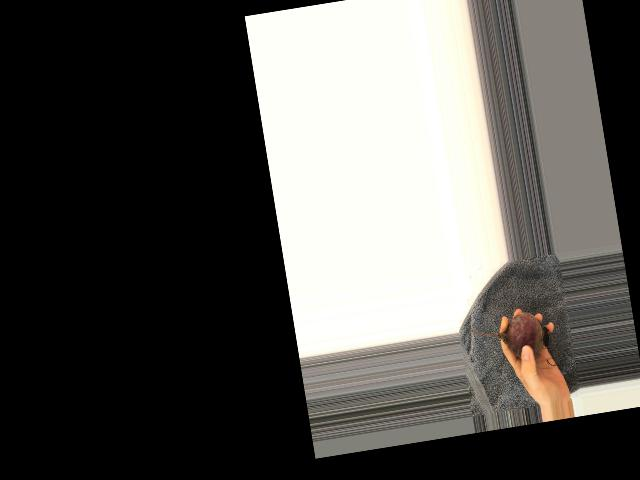beet: (467, 308, 552, 368)
